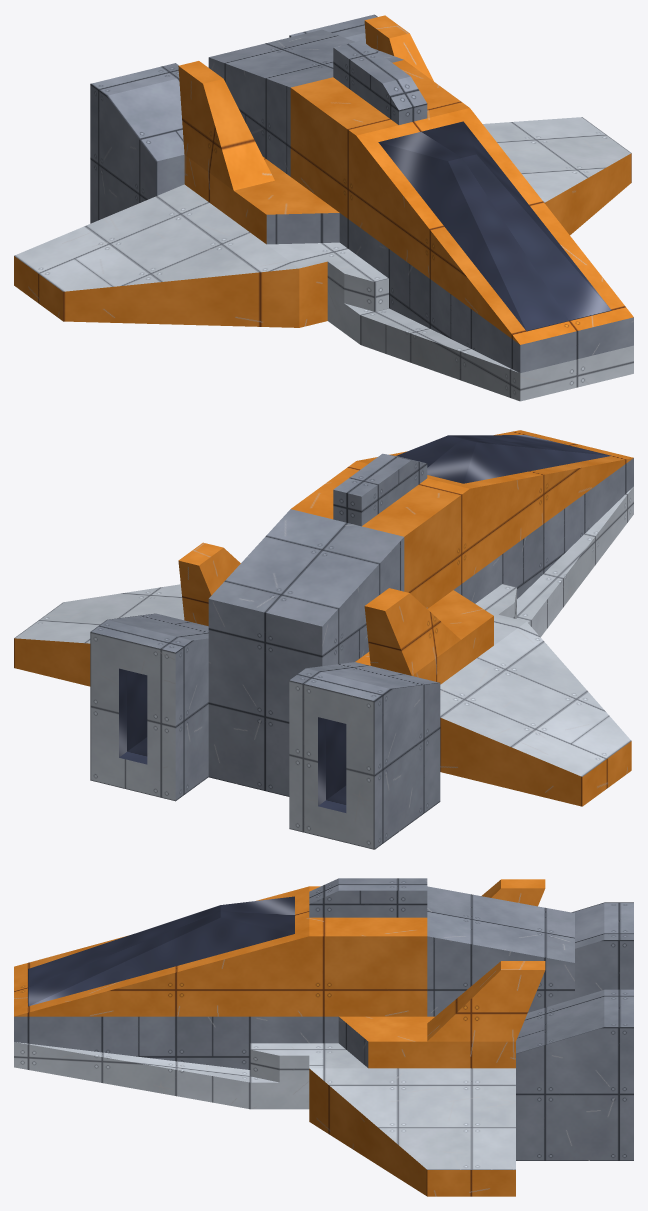
File: nave_speeder.obj
3 views of the same model, one above another, from view 1: azimuth 30°, elevation 25°; view 2: azimuth 150°, elevation 25°; view 3: azimuth 270°, elevation 25° (orthographic). The views are drawn at different scales.
Parts seen in each view (by area): view 1: craft_speederA; view 2: craft_speederA; view 3: craft_speederA.
Part boxes in pixels (x1,y1,x2,y2): craft_speederA: (14, 14, 633, 401); craft_speederA: (14, 430, 633, 849); craft_speederA: (14, 878, 633, 1196).
Bounding box in the file's own units: 2 × 0.8 × 2.1.
Materials: 4 (4 with a texture image).
